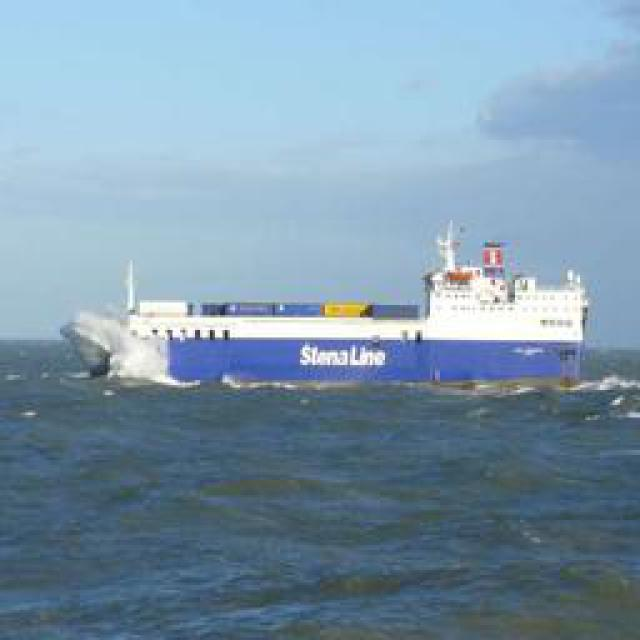Ship: (77, 228, 590, 393)
